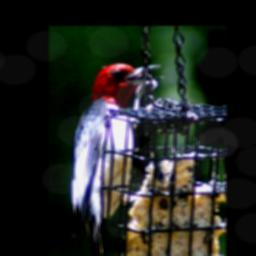Woodpecker: (64, 58, 173, 256)
